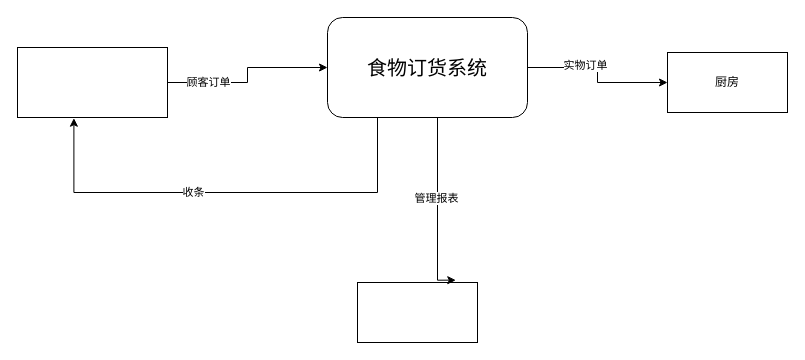
Some shapes in this 805 by 360 pixel diagram are drawn without their labels. Here are the shapes that lost their labels. From the top down, the centre of each, then its label:
At (x=92, y=82): "顾客".
At (x=417, y=312): "管理者".
